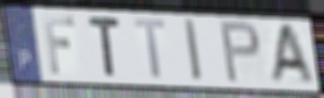A: (267, 22, 316, 85)
F: (41, 14, 77, 76)
I: (182, 16, 205, 84)
P: (218, 19, 263, 84)
T: (86, 14, 123, 79), (132, 16, 167, 80)
